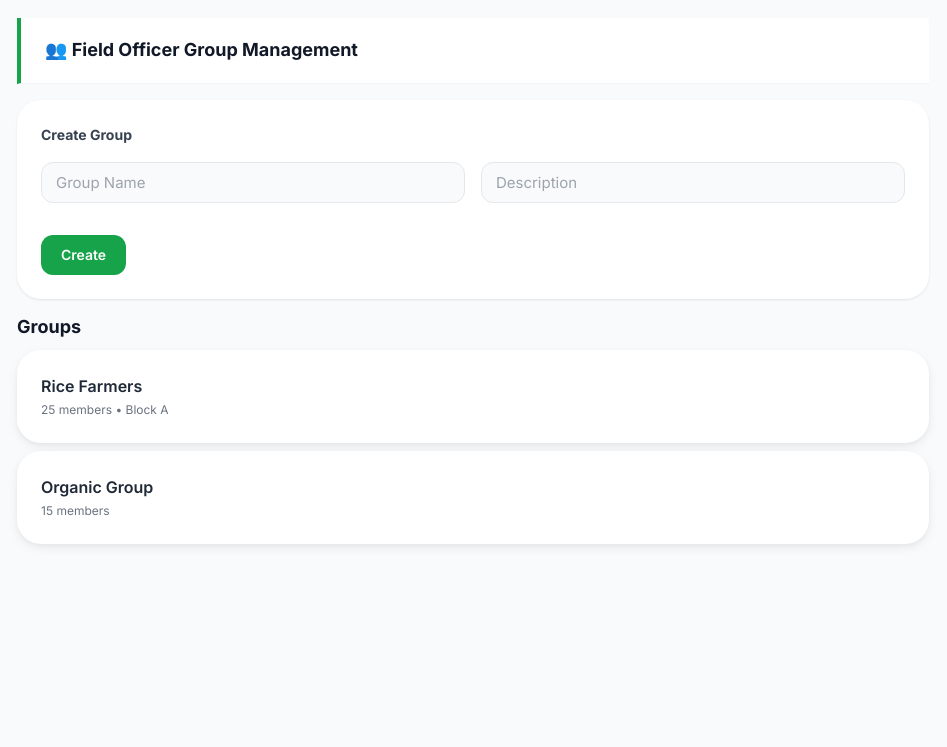
Scenario: GroupManagementPage › shows group details with members when selected
The width and height of the screenshot is (947, 747).
Click the element with test id "group-g1" at (473, 397), box [17, 350, 929, 443]
(page scrolled)
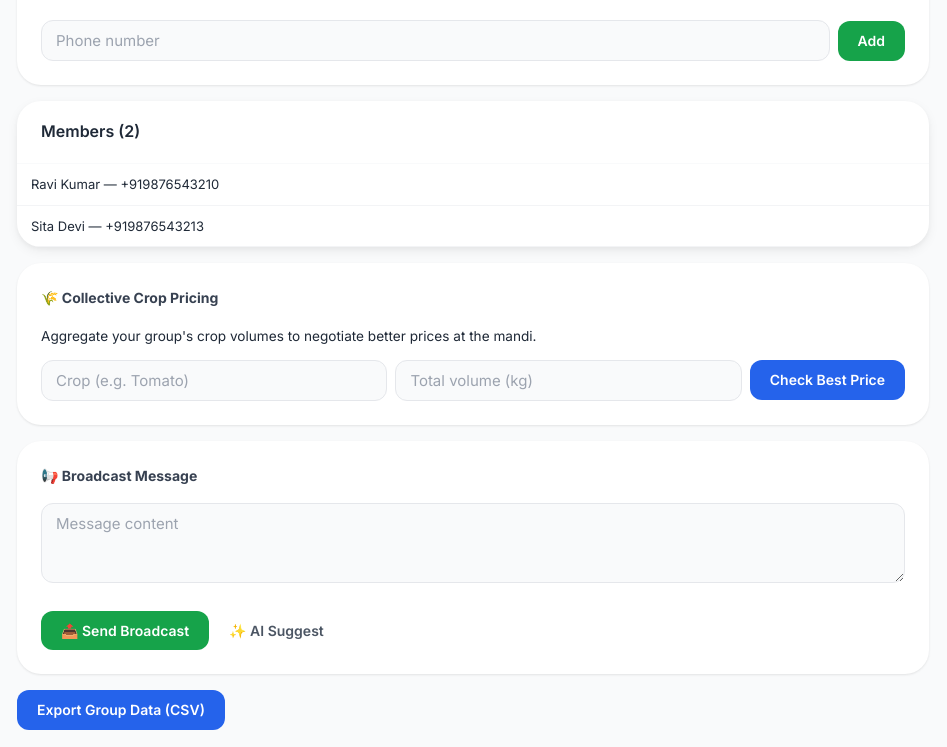
Result: the element with test id "members-list" is shown at [17, 101, 929, 248]
Result: the text "Ravi Kumar — +919876543210" is shown at [17, 164, 929, 206]
Result: the button with test id "send-broadcast-btn" is shown at [41, 611, 209, 650]
